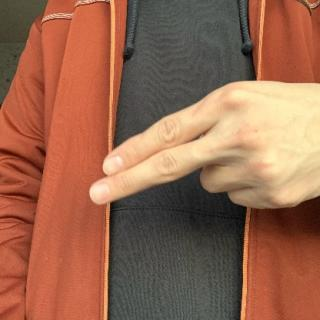AYN: (87, 73, 320, 215)
